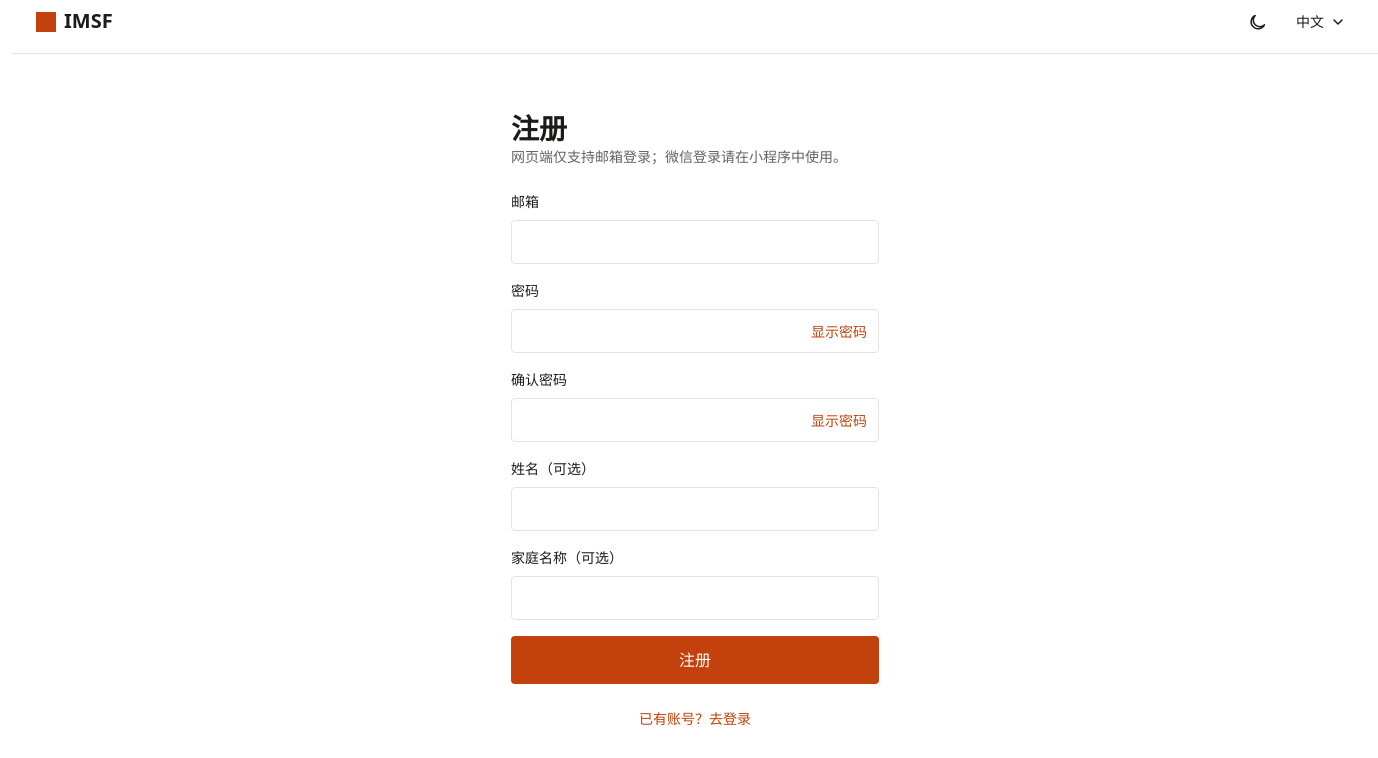
Test: success › sends the household name when filled in
Type "a@b.c" into the field labelled "邮箱" at (695, 242), box x1=511 y1=220 x2=879 y2=264
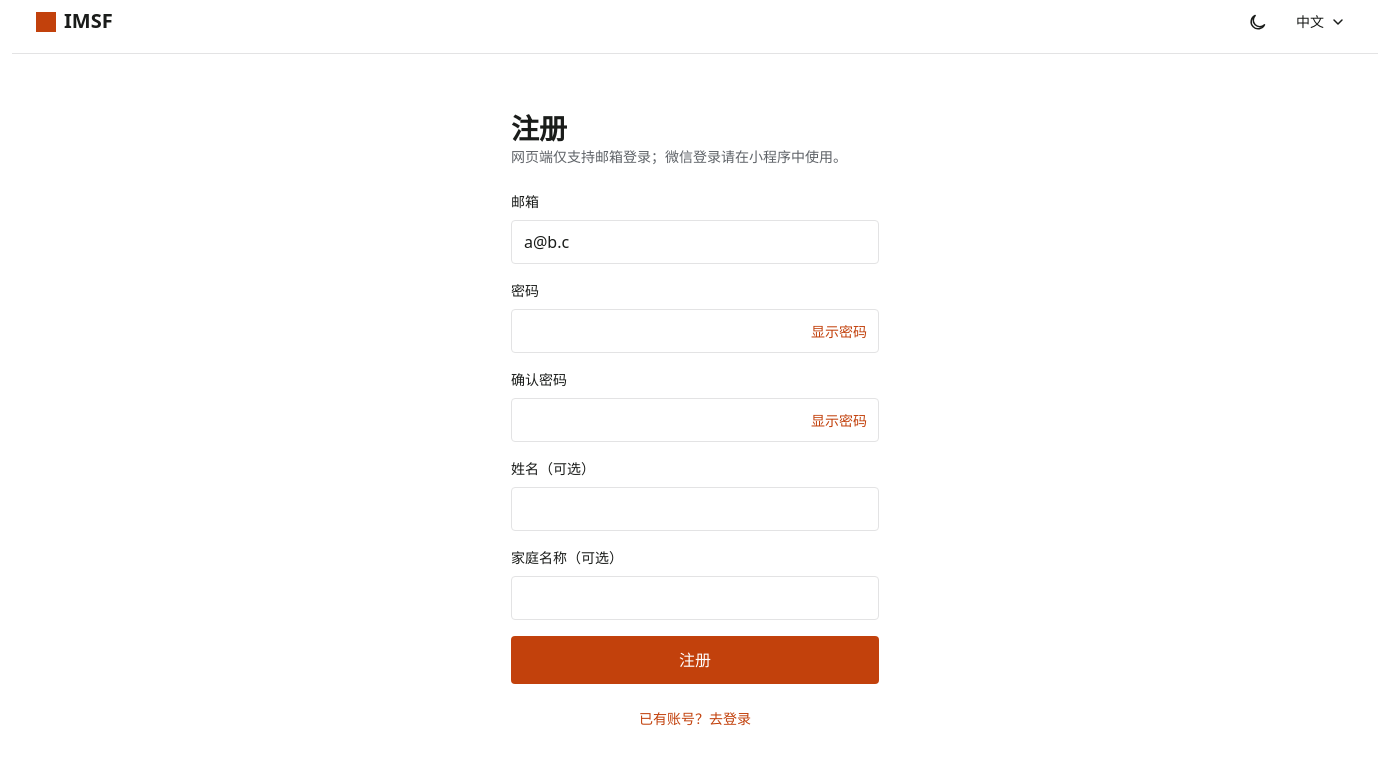
Type "longenough" into the password field labelled "密码" at (695, 331), box x1=511 y1=309 x2=879 y2=353
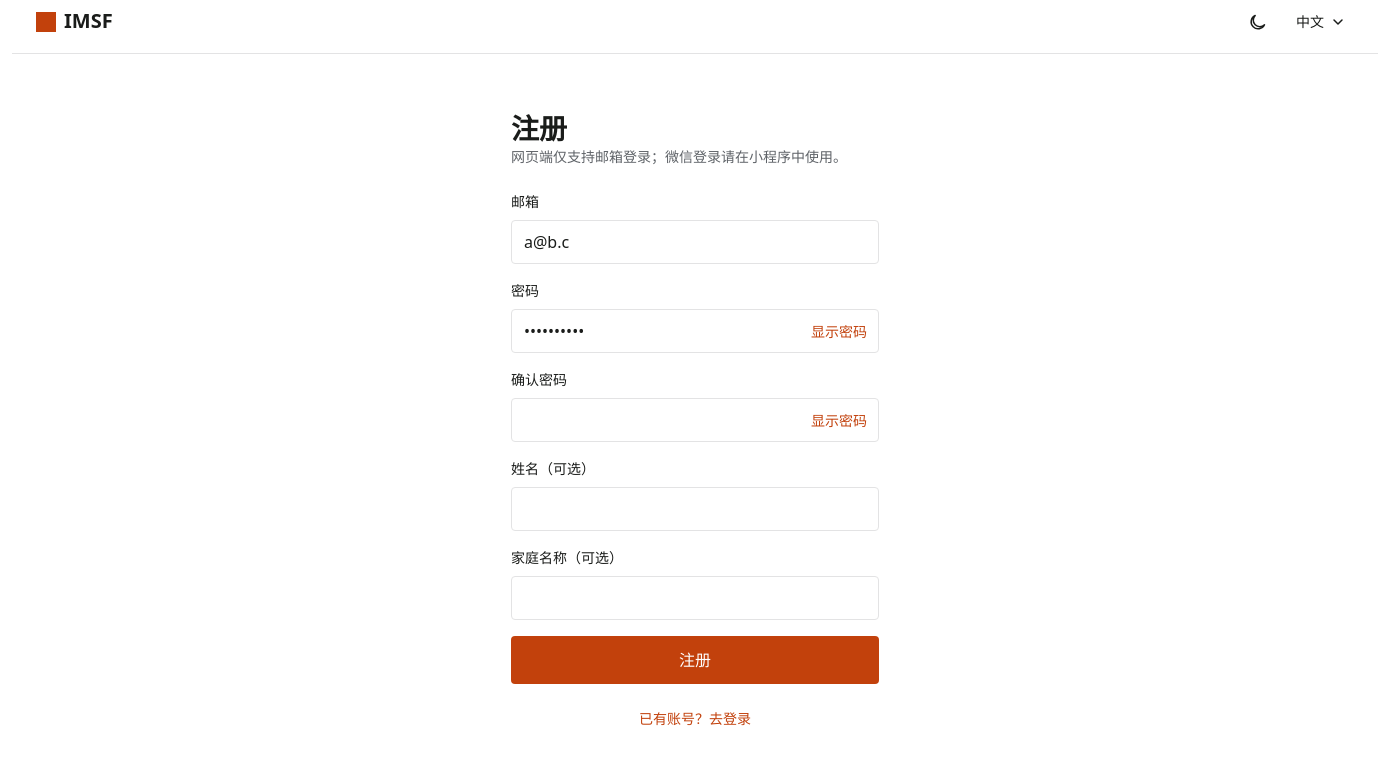
Type "longenough" into the password field labelled "确认密码" at (695, 420), box x1=511 y1=398 x2=879 y2=442
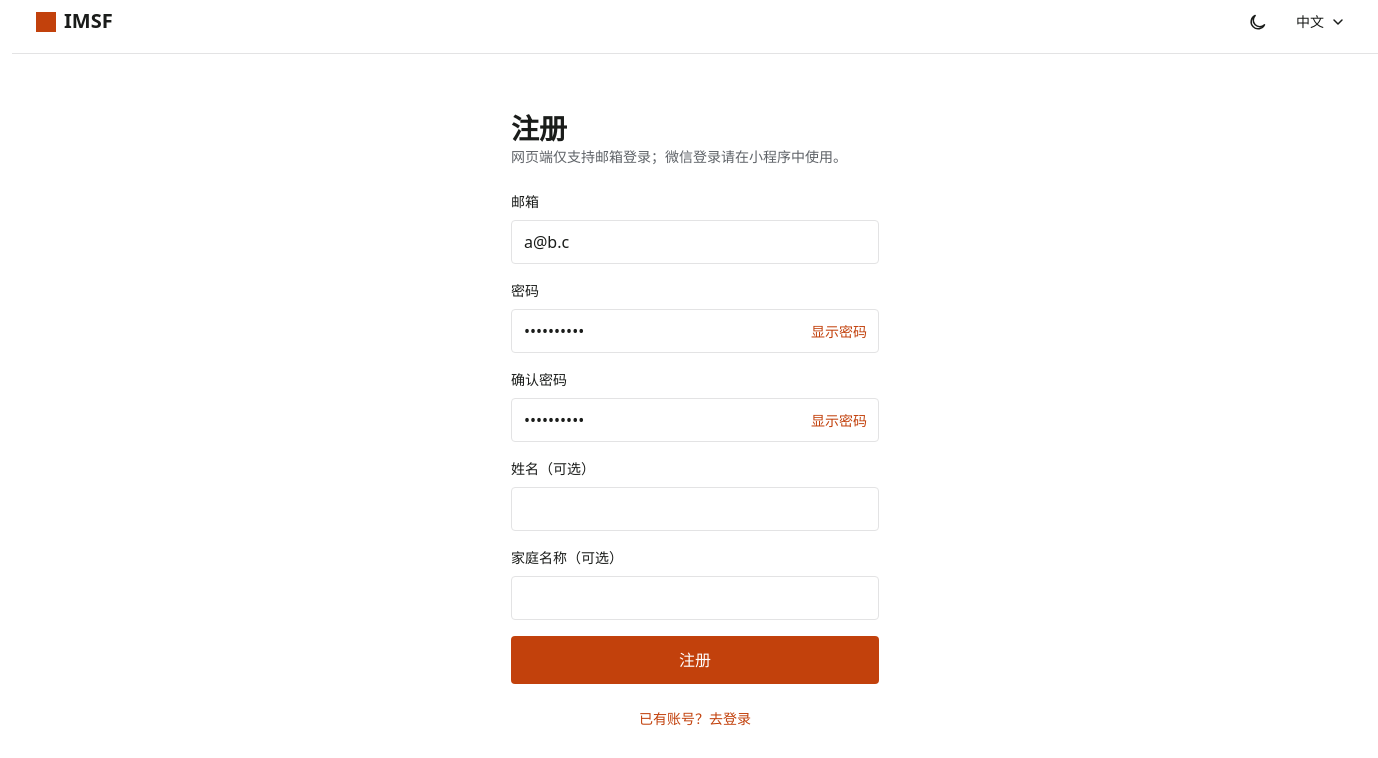
Type "小明" into the field labelled "姓名（可选）" at (695, 509), box x1=511 y1=487 x2=879 y2=531
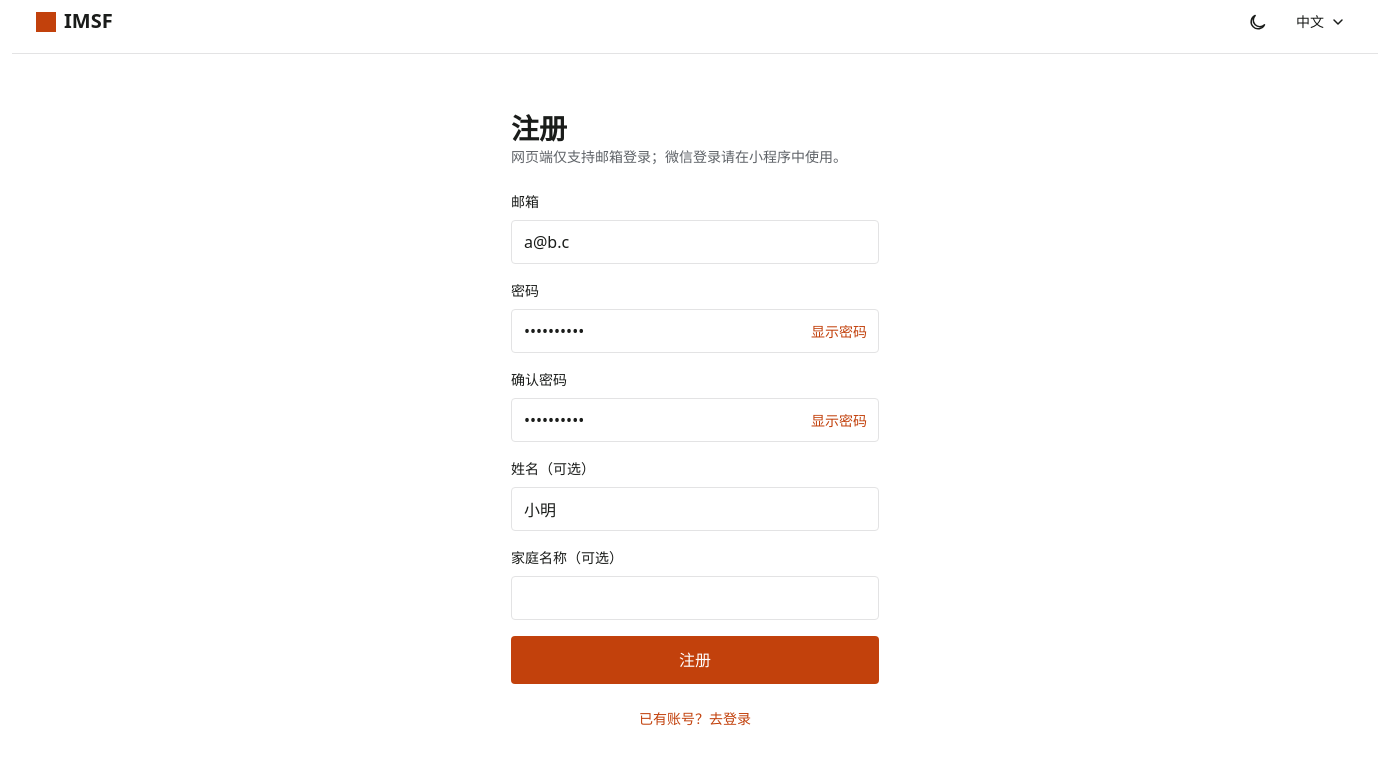
Type "我家" into the field labelled "家庭名称（可选）" at (695, 598), box x1=511 y1=576 x2=879 y2=620
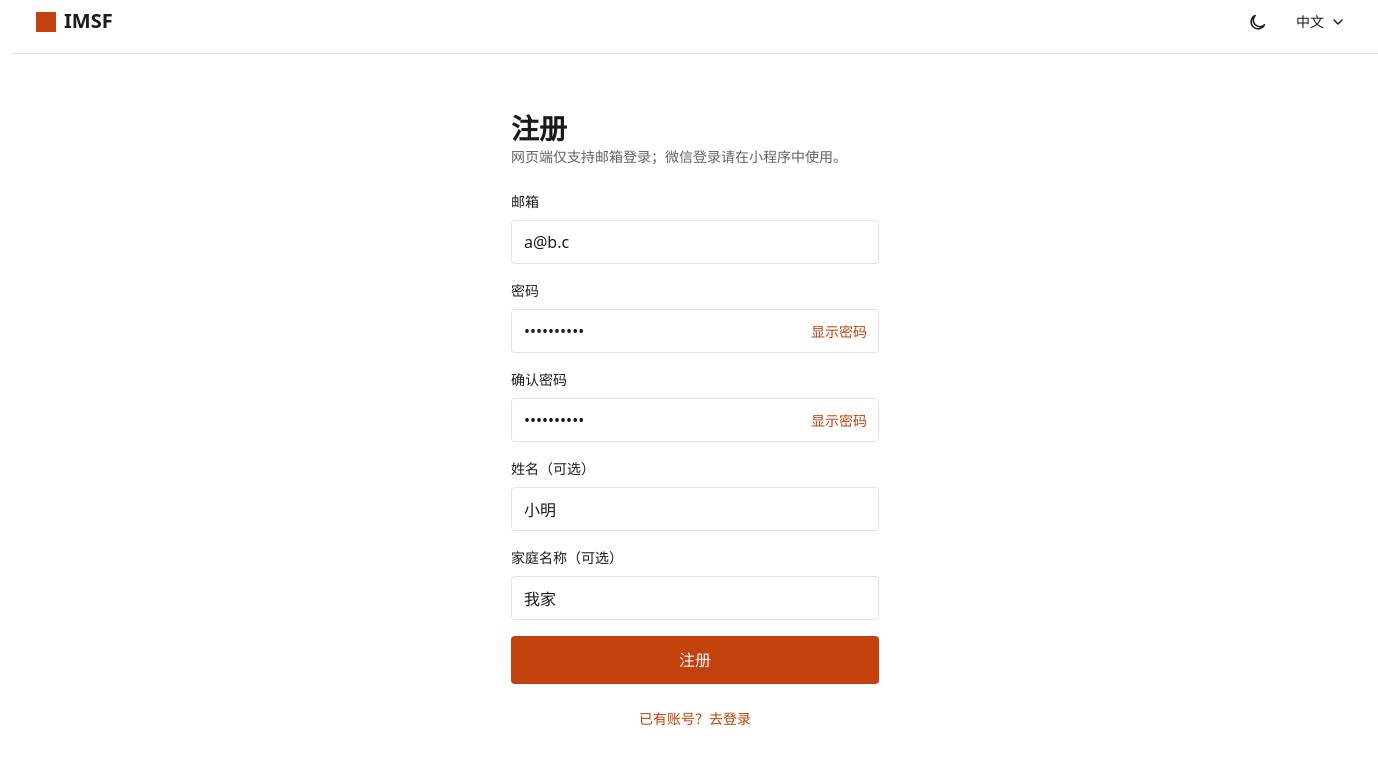
Click the button "注册" at (695, 660), box x1=511 y1=636 x2=879 y2=684
(page scrolled)
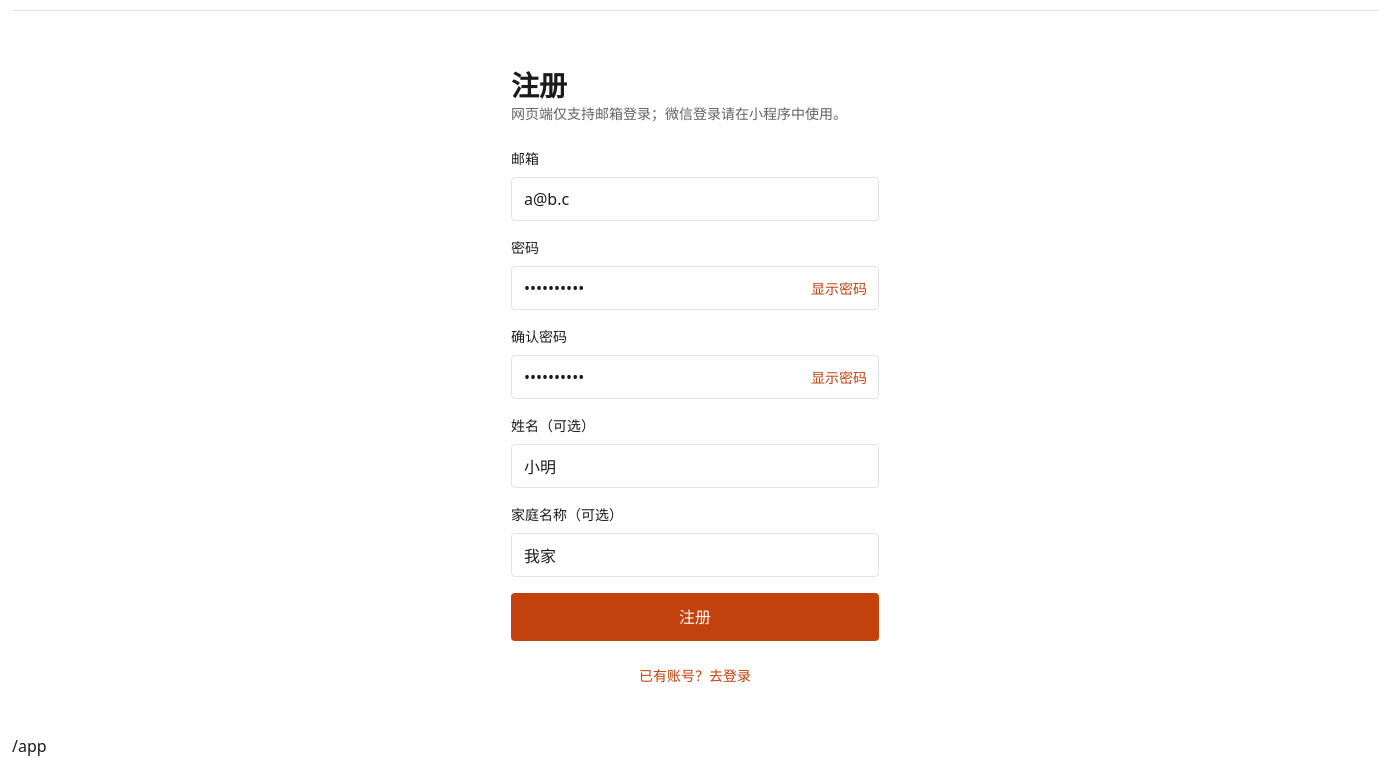
Now the text with test id "location" reads "/app", box x1=12 y1=735 x2=47 y2=757
